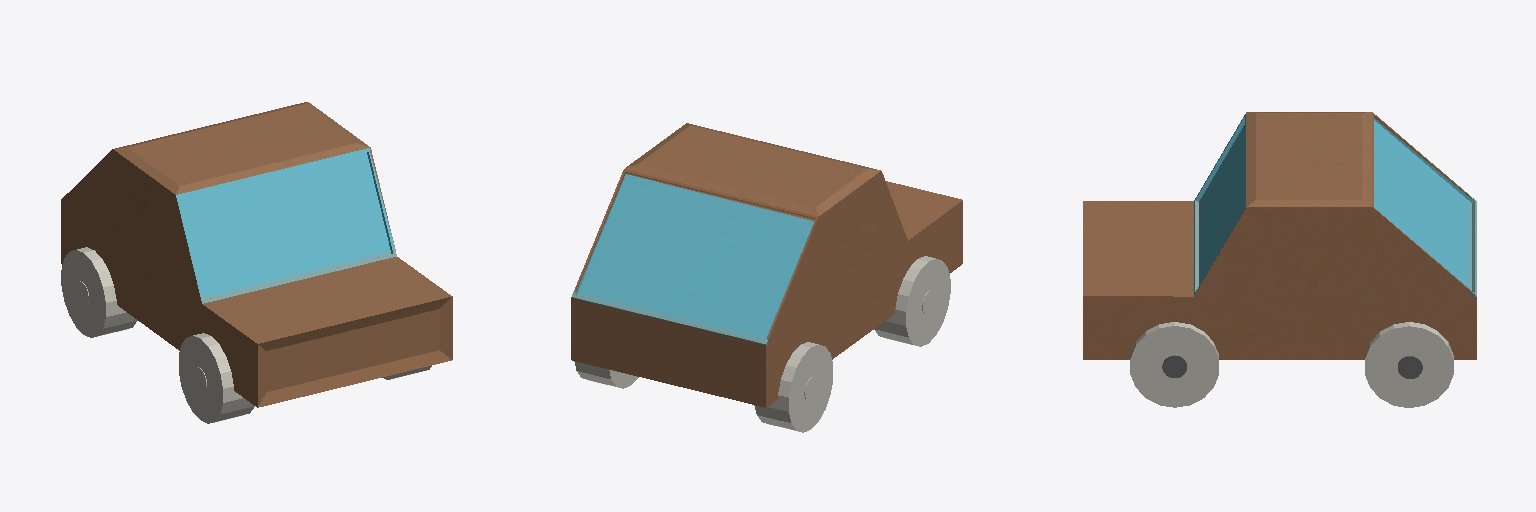
3 renders of one model, left to right at view 1: azimuth 30°, elevation 25°; view 2: azimuth 150°, elevation 25°; view 3: azimuth 270°, elevation 25°, orthographic.
Visible parts, largest first — view 1: CarBody; view 2: CarBody; view 3: CarBody.
Boxes of the visible parts, x1,y1,x2,y2 form: CarBody: [61, 102, 452, 423]; CarBody: [571, 123, 962, 432]; CarBody: [1083, 112, 1476, 407].
Size of the model in its own units: 1.83 by 1.61 by 2.87.
Materials: 1 (1 with a texture image).